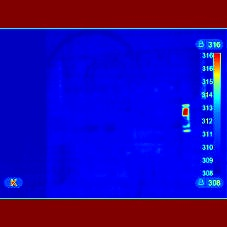Less: (181, 116, 192, 134)
